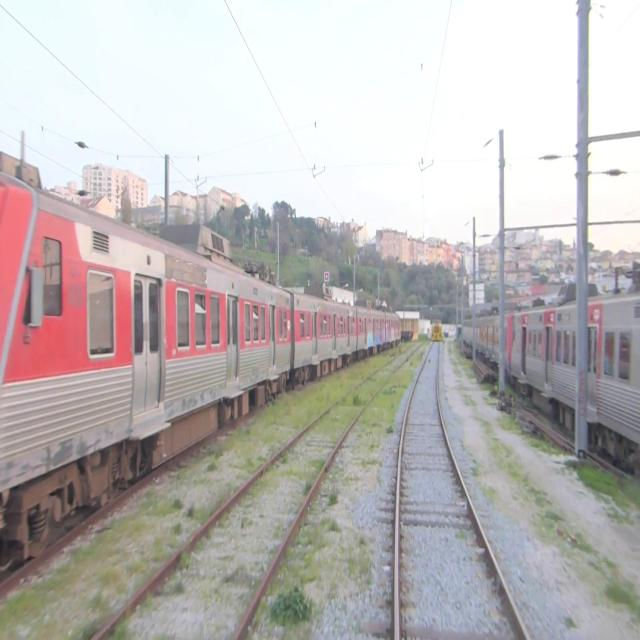rail-track: (99, 345, 416, 639), (399, 341, 525, 639)
